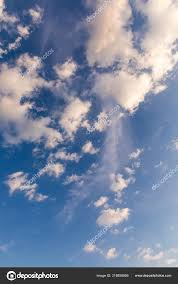sky: (2, 3, 175, 264)
